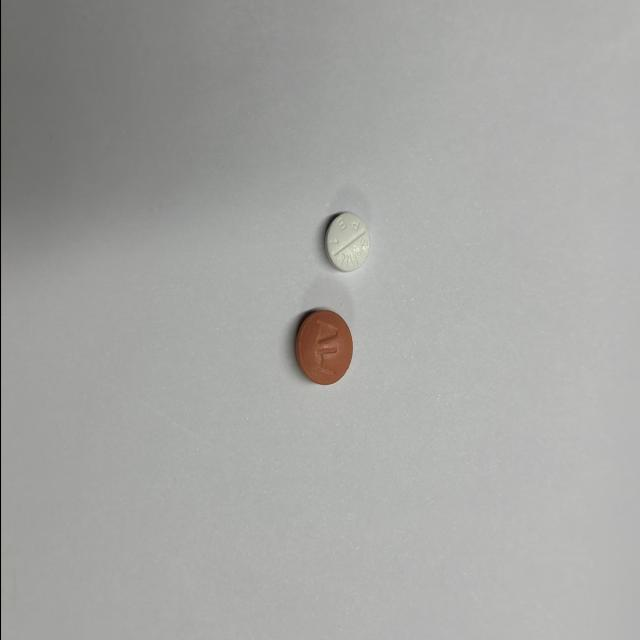Piller: (295, 310, 351, 385), (324, 212, 369, 272)
